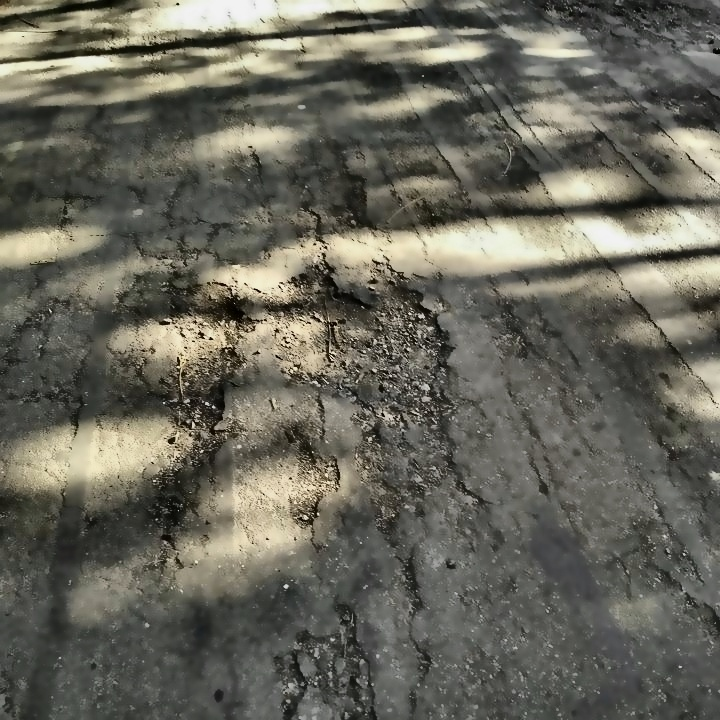pothole: (255, 257, 455, 424), (159, 277, 244, 451)
